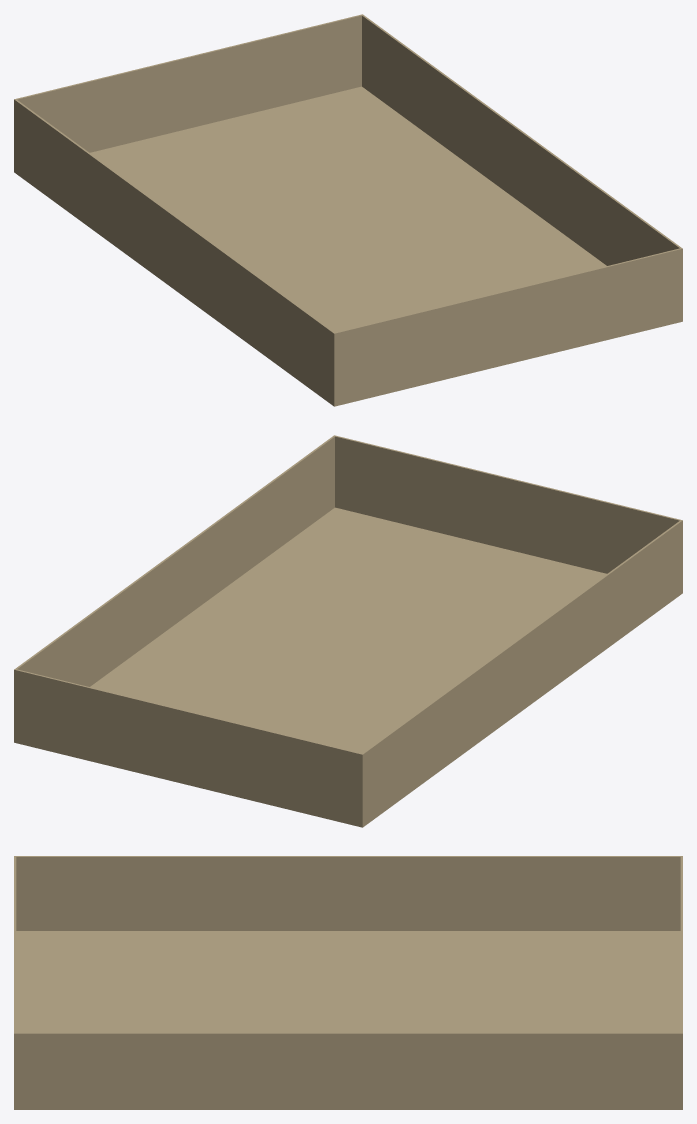
The model's file is jp_bedroom_book_paperback_cover.glb.
3 renders of one model, top to bottom at view 1: azimuth 30°, elevation 25°; view 2: azimuth 150°, elevation 25°; view 3: azimuth 270°, elevation 25°, orthographic. The views are drawn at different scales.
Visible parts, largest first — view 1: cover; view 2: cover; view 3: cover.
Part boxes in pixels (x1=…): cover: x1=14, y1=14, x2=682, y2=406; cover: x1=14, y1=435, x2=682, y2=827; cover: x1=14, y1=856, x2=682, y2=1109.
Size of the model in its own units: 0.11 by 0.022 by 0.175.
